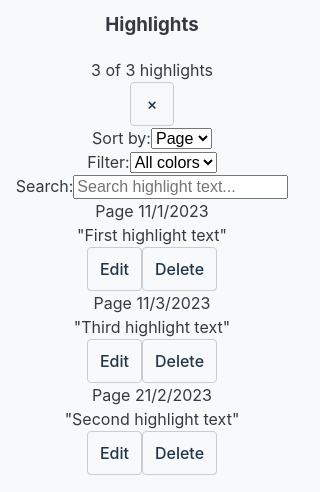
HighlightList › filters highlights by color
Select "Yellow" in the dropdown showing "All colors" next to "Filter:" at (173, 163), box x1=130 y1=152 x2=217 y2=173
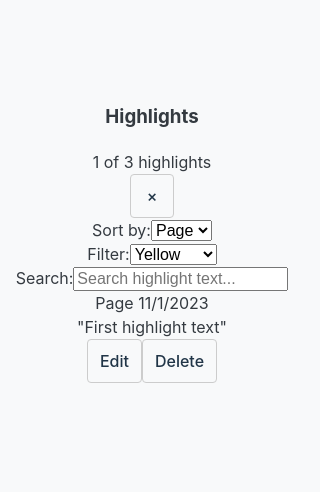
Expected: the text "\"First highlight text\"" is shown, x1=77 y1=317 x2=227 y2=337
Now the text "1 of 3 highlights" is shown, box x1=93 y1=152 x2=211 y2=172
Now the text "\"Second highlight text\"" is gone
